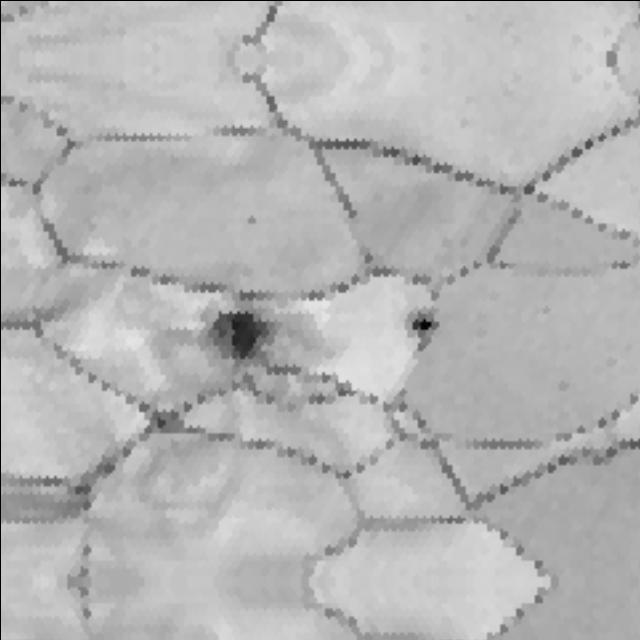good_void: (180, 292, 293, 381), (401, 303, 442, 352), (239, 207, 259, 234)
